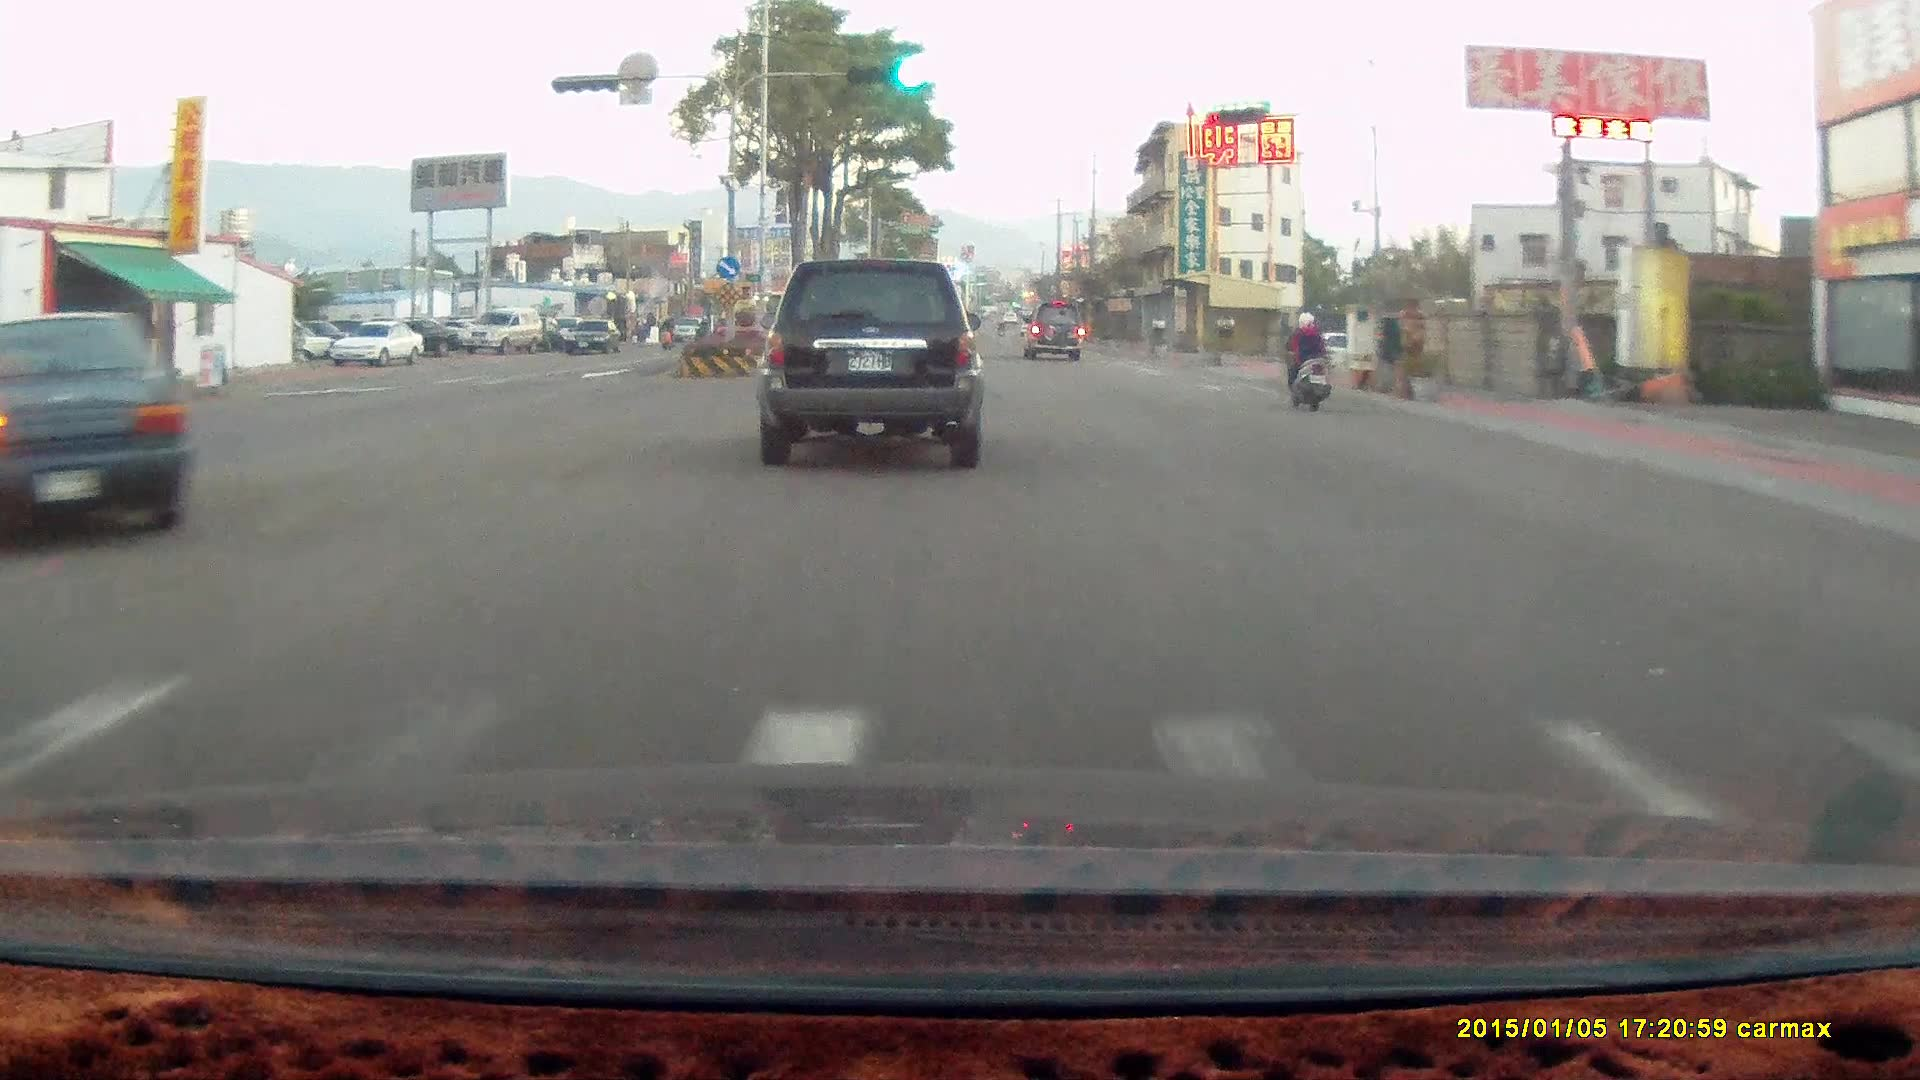rider: (1270, 303, 1344, 420), (1279, 307, 1331, 412)
vehicle: (763, 253, 995, 466), (758, 254, 983, 465), (1, 309, 205, 540), (328, 318, 422, 365), (333, 320, 426, 368), (460, 304, 545, 355), (460, 305, 543, 354), (1026, 300, 1086, 361), (1020, 299, 1083, 358), (376, 317, 458, 356), (563, 319, 622, 354)
